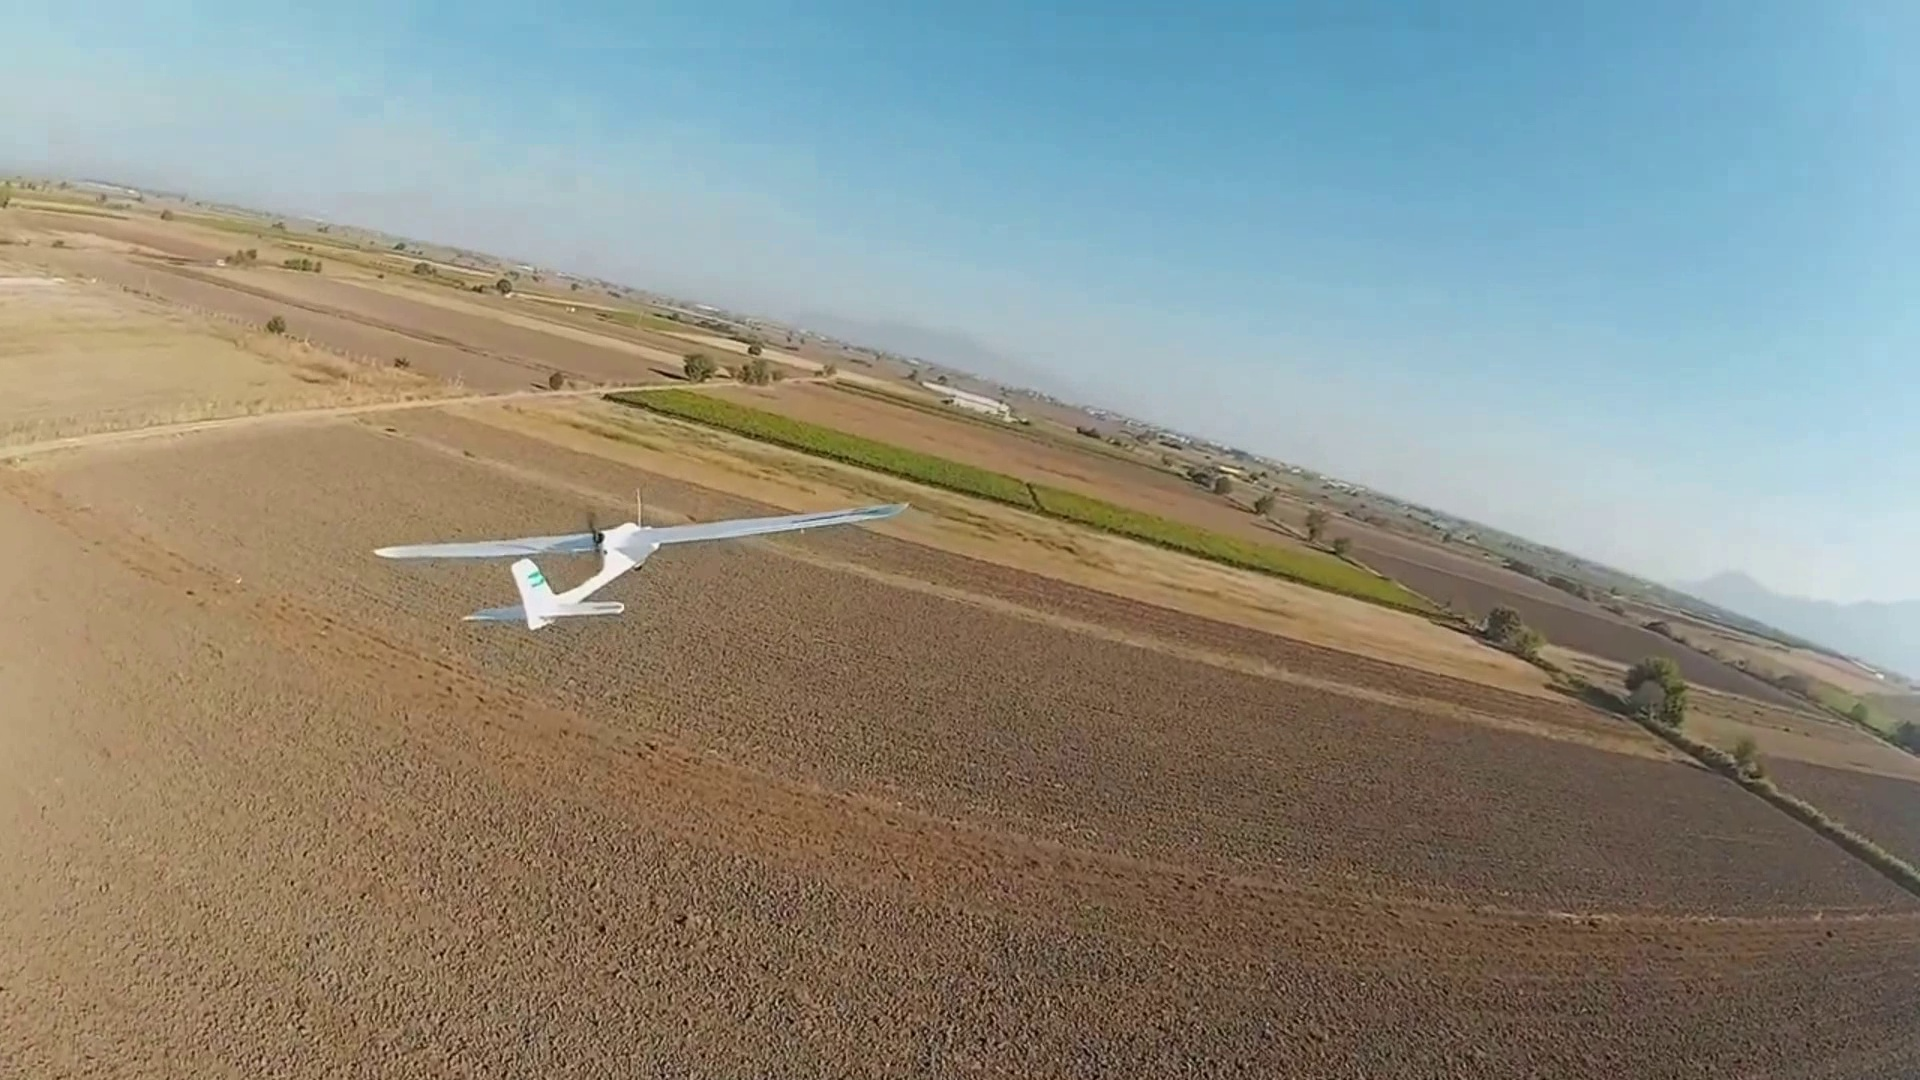airplane: (373, 500, 909, 632)
